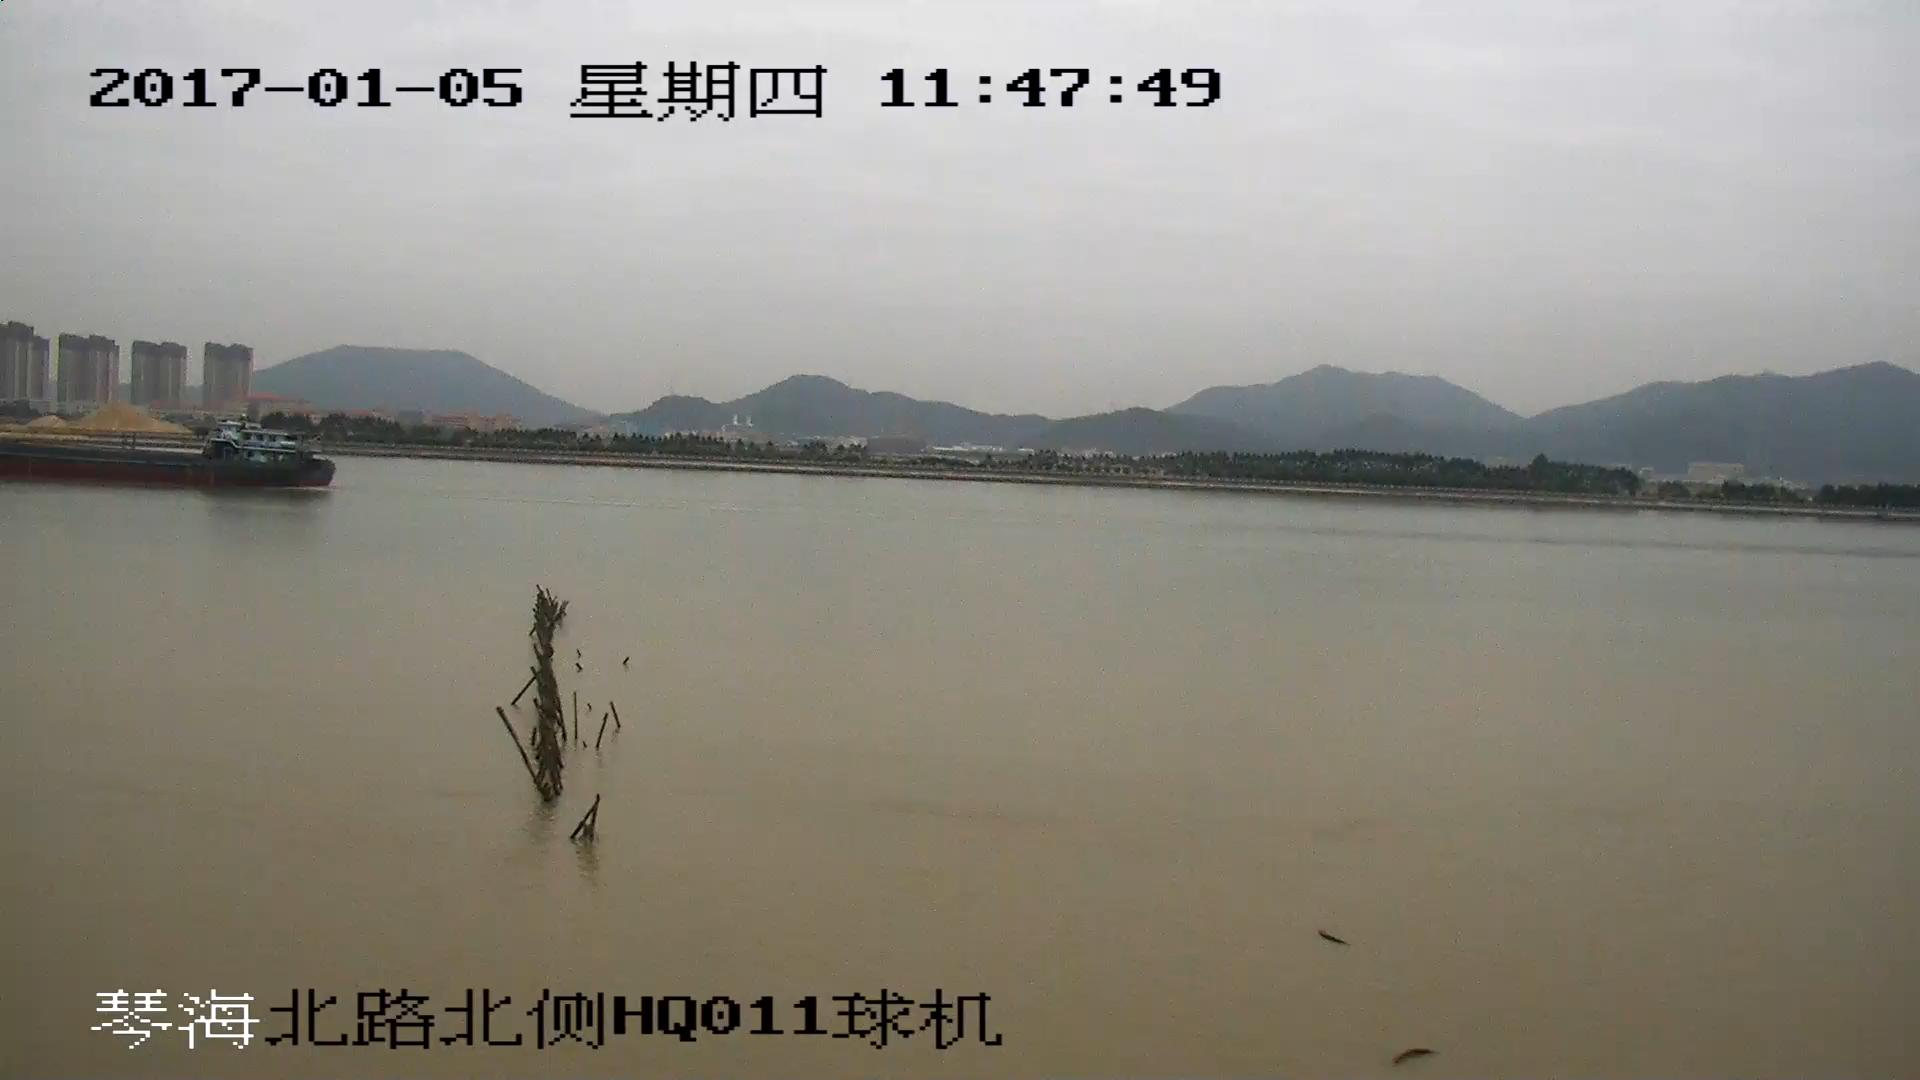bulk cargo carrier: (1, 425, 344, 494)
